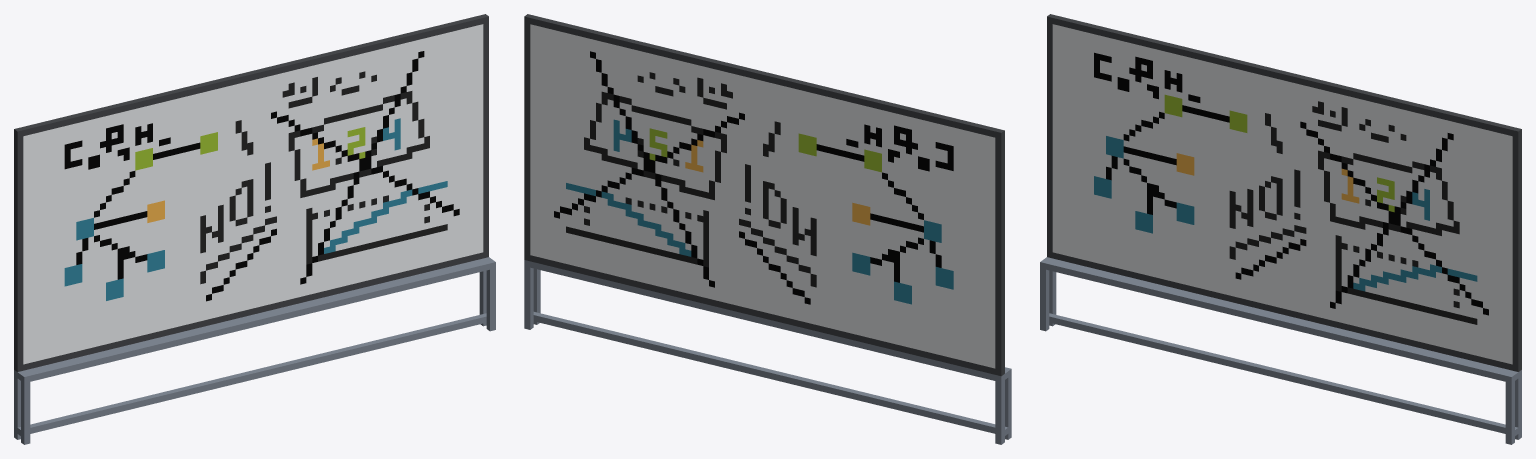
Rendered from whiteboard.obj.
3 renders of one model, left to right at view 1: azimuth 30°, elevation 25°; view 2: azimuth 150°, elevation 25°; view 3: azimuth 330°, elevation 25°, orthographic.
Bounding box in the file's own units: 8 × 5 × 0.3.
Materials: 1 (1 with a texture image).
